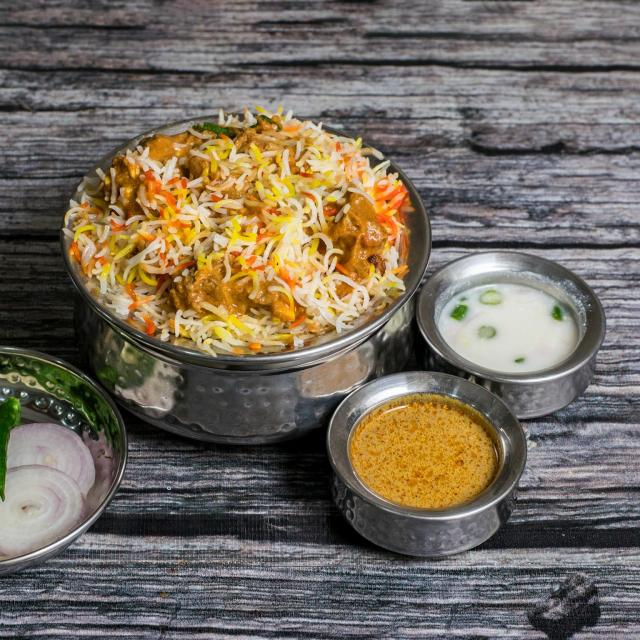Biryani: (64, 104, 420, 352)
